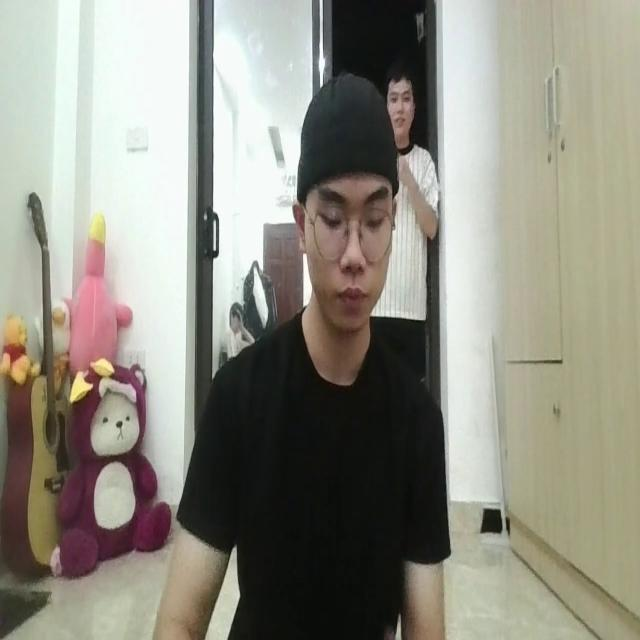extra_person: (388, 72, 434, 362)
student: (158, 75, 447, 640)
